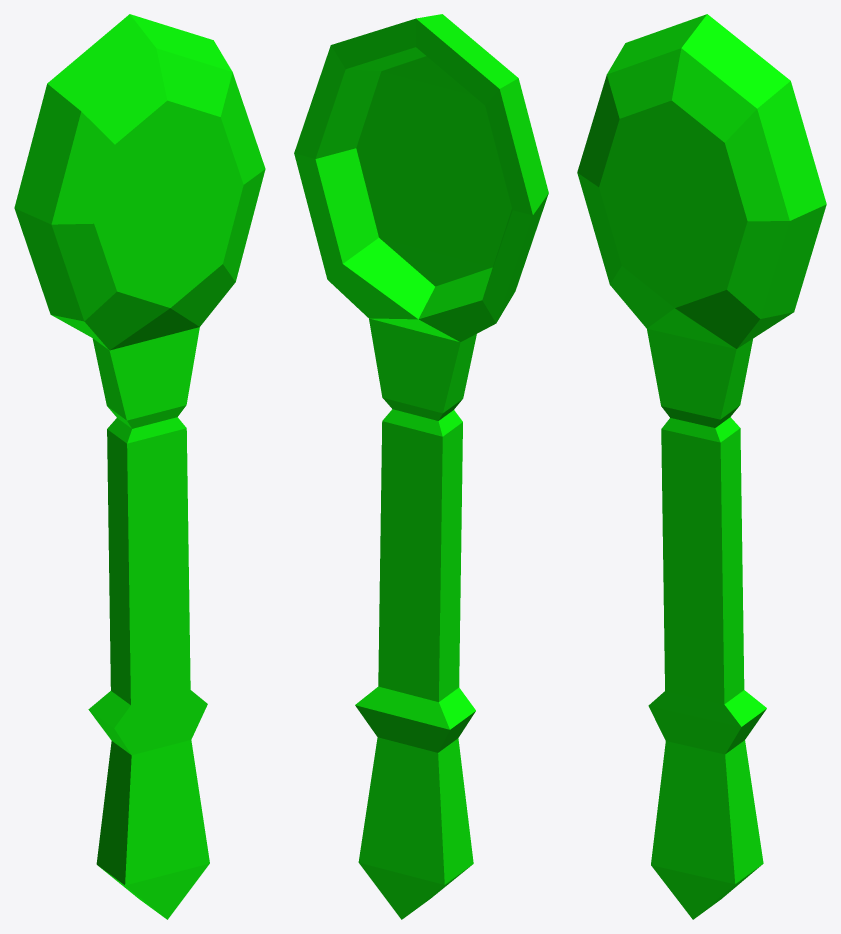
The model's file is SM_Spoon_Little_Metal.fbx.
3 renders of one model, left to right at view 1: azimuth 30°, elevation 25°; view 2: azimuth 150°, elevation 25°; view 3: azimuth 330°, elevation 25°, orthographic. The views are drawn at different scales.
Visible parts, largest first — view 1: spoon-little-metal; view 2: spoon-little-metal; view 3: spoon-little-metal.
Part boxes in pixels (x1,y1,x2,y2): spoon-little-metal: [14, 14, 265, 919]; spoon-little-metal: [294, 14, 548, 919]; spoon-little-metal: [577, 14, 826, 919].
Bounding box in the file's own units: 0.0603 × 0.2178 × 0.018.
